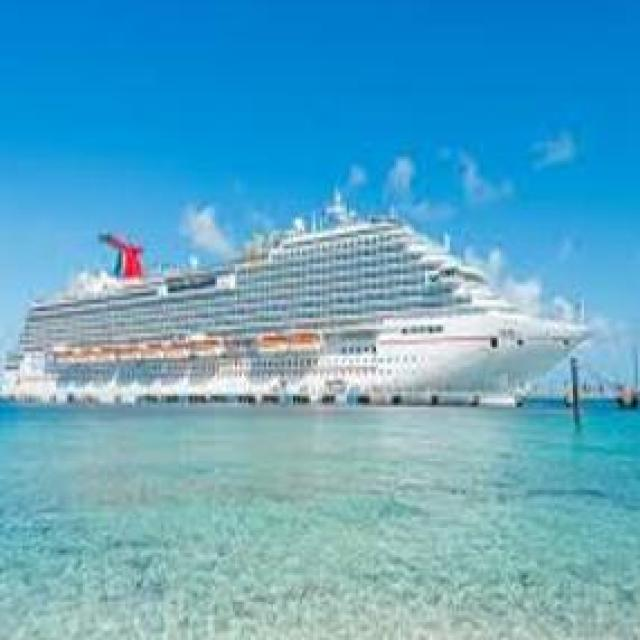passenger ship: (3, 204, 596, 408)
